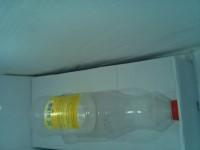bottle: (24, 89, 179, 139)
